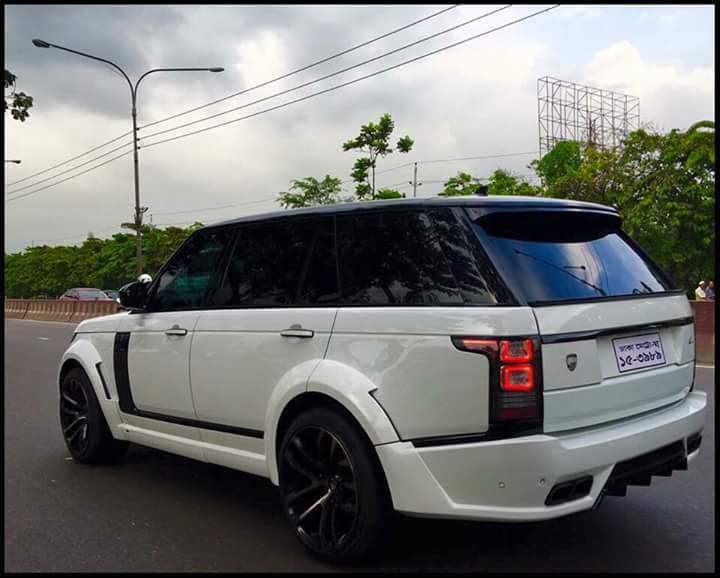registration_plate: (612, 333, 667, 373)
